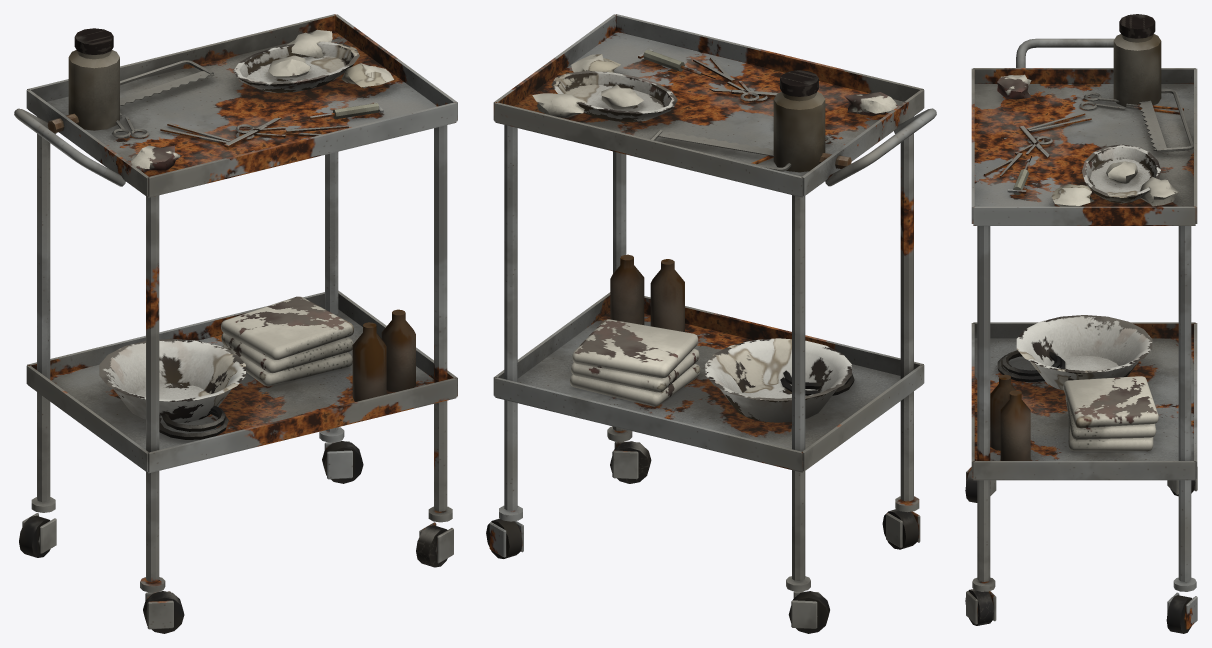
File: InstrumentTrolley.fbx
3 renders of one model, left to right at view 1: azimuth 30°, elevation 25°; view 2: azimuth 150°, elevation 25°; view 3: azimuth 270°, elevation 25°, orthographic. The views are drawn at different scales.
Visible parts, largest first — view 1: InstrumentTrolley; view 2: InstrumentTrolley; view 3: InstrumentTrolley.
Boxes of the visible parts, <box> form: InstrumentTrolley: <box>14,14,457,633</box>; InstrumentTrolley: <box>486,14,936,633</box>; InstrumentTrolley: <box>965,14,1197,633</box>.
Bounding box in the file's own units: 2.23 × 3.05 × 1.31.
1 material, 1 textured.
